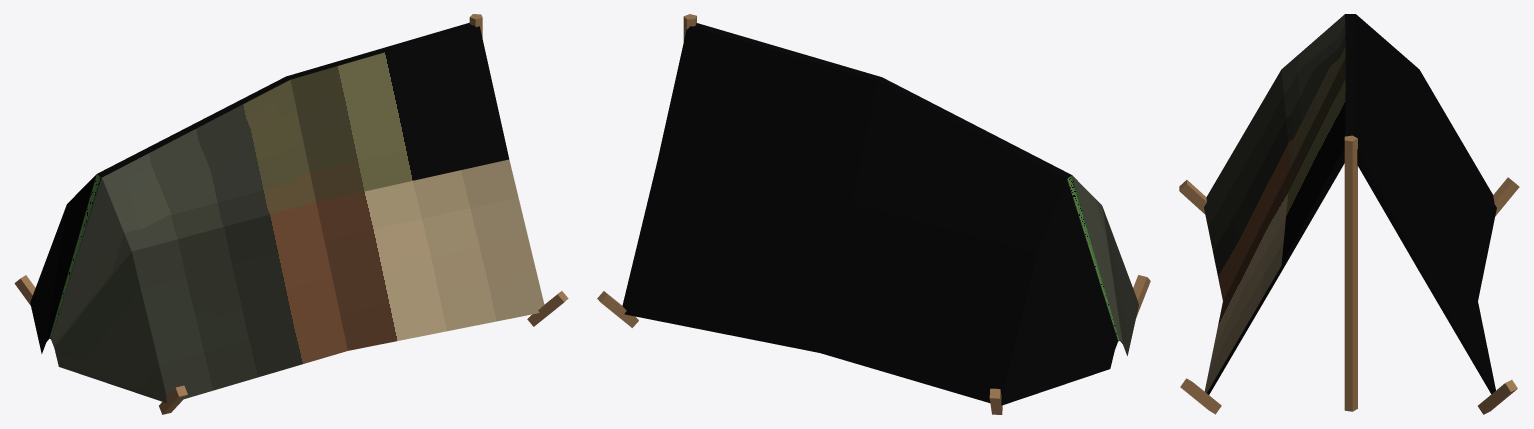
The model's file is camp_tent.glb.
The picture shows the model from 3 angles, left to right: view 1: azimuth 30°, elevation 25°; view 2: azimuth 150°, elevation 25°; view 3: azimuth 270°, elevation 25°; orthographic projection. The views are drawn at different scales.
Visible parts, largest first — view 1: Cube, Cube.004; view 2: Cube, Cube.004; view 3: Cube, Cube.004.
Boxes of the visible parts, x1,y1,x2,y2 form: Cube: (30,22,544,403); Cube.004: (14,14,568,414); Cube: (622,23,1138,405); Cube.004: (597,14,1150,414); Cube: (1204,14,1496,394); Cube.004: (1179,135,1519,414).
Bounding box in the file's own units: 3.92 × 2.2 × 2.45.
1 material, 1 textured.
